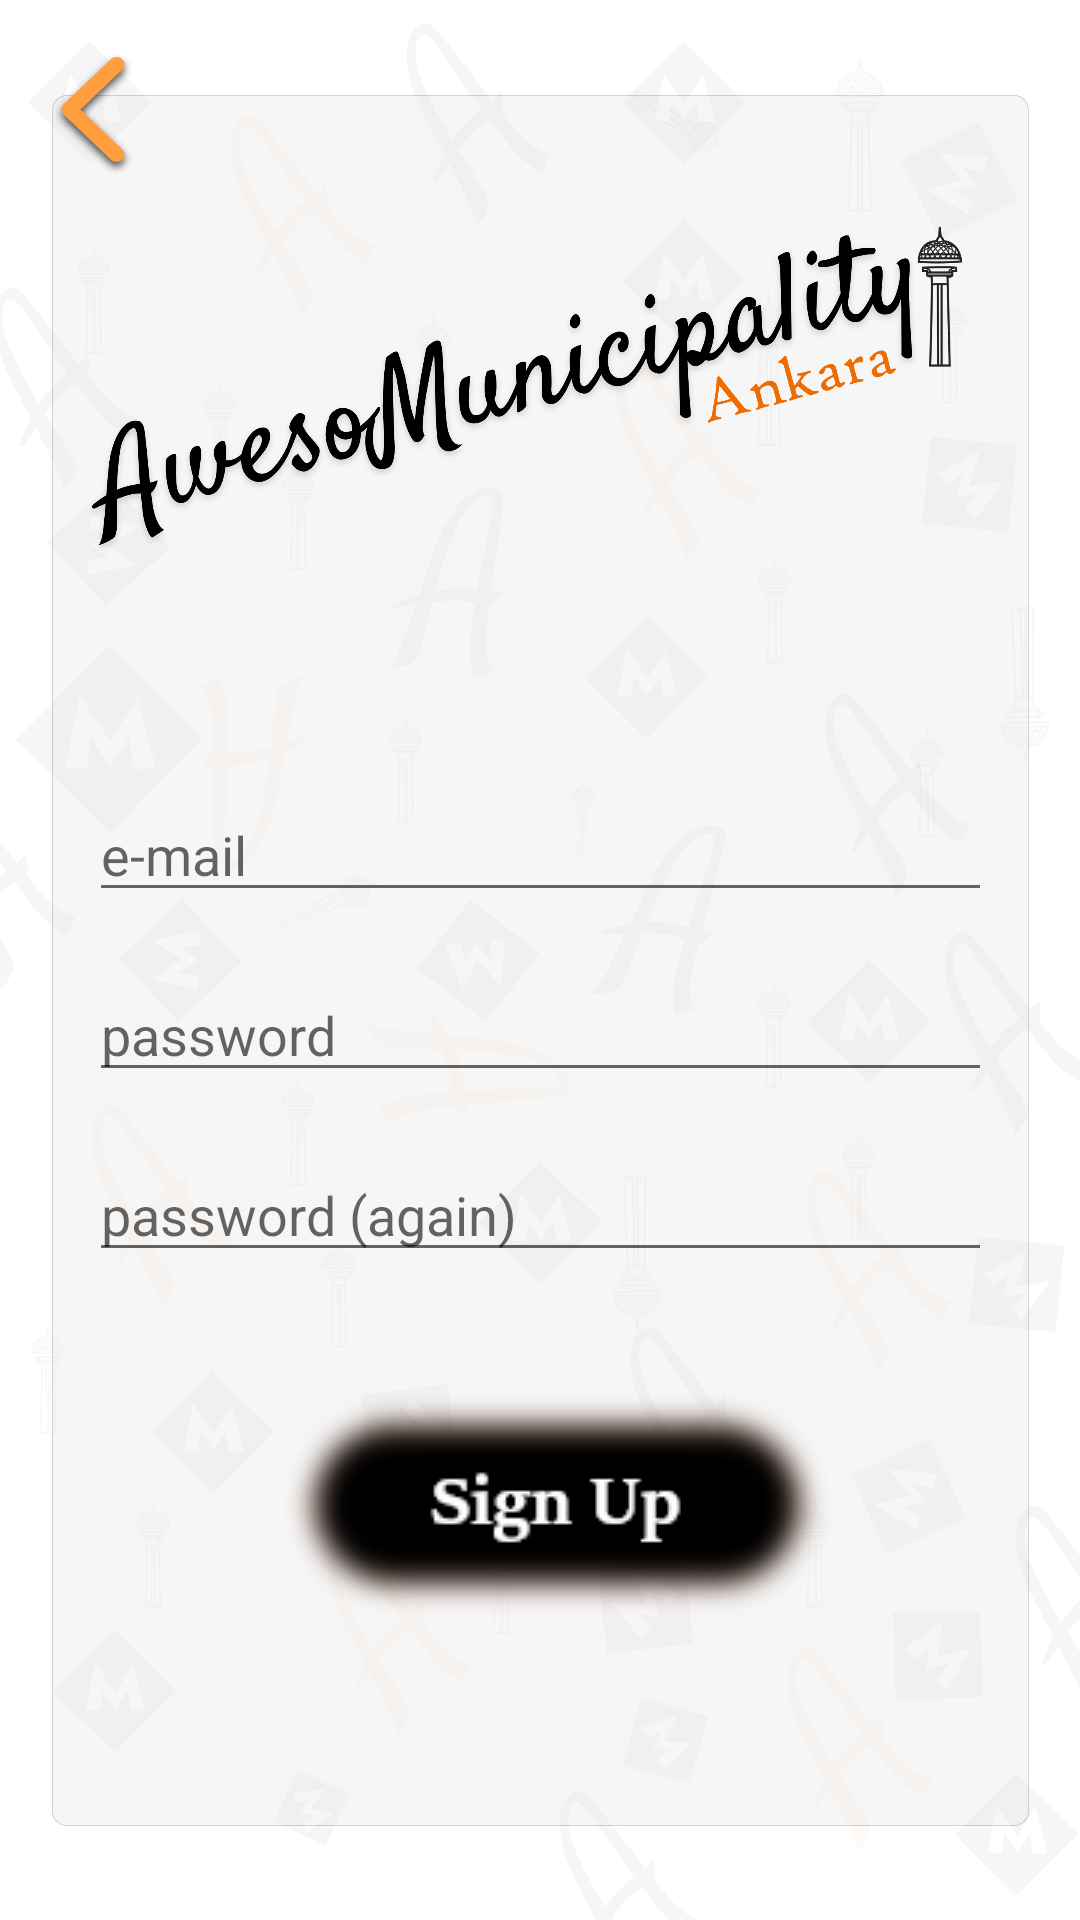

Icons on this 1080x1920 Android screen, each with the point to tap as (x=x, y=y):
back: (x=93, y=114)
